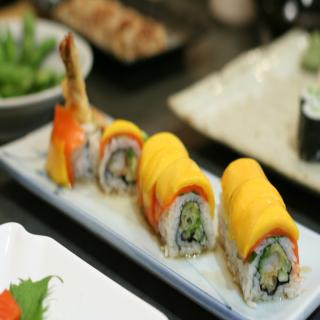Sushi: (217, 169, 310, 314), (136, 130, 214, 259), (44, 33, 106, 190), (96, 118, 146, 194)
